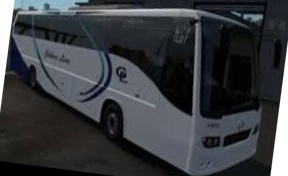bus: (0, 0, 276, 176)
